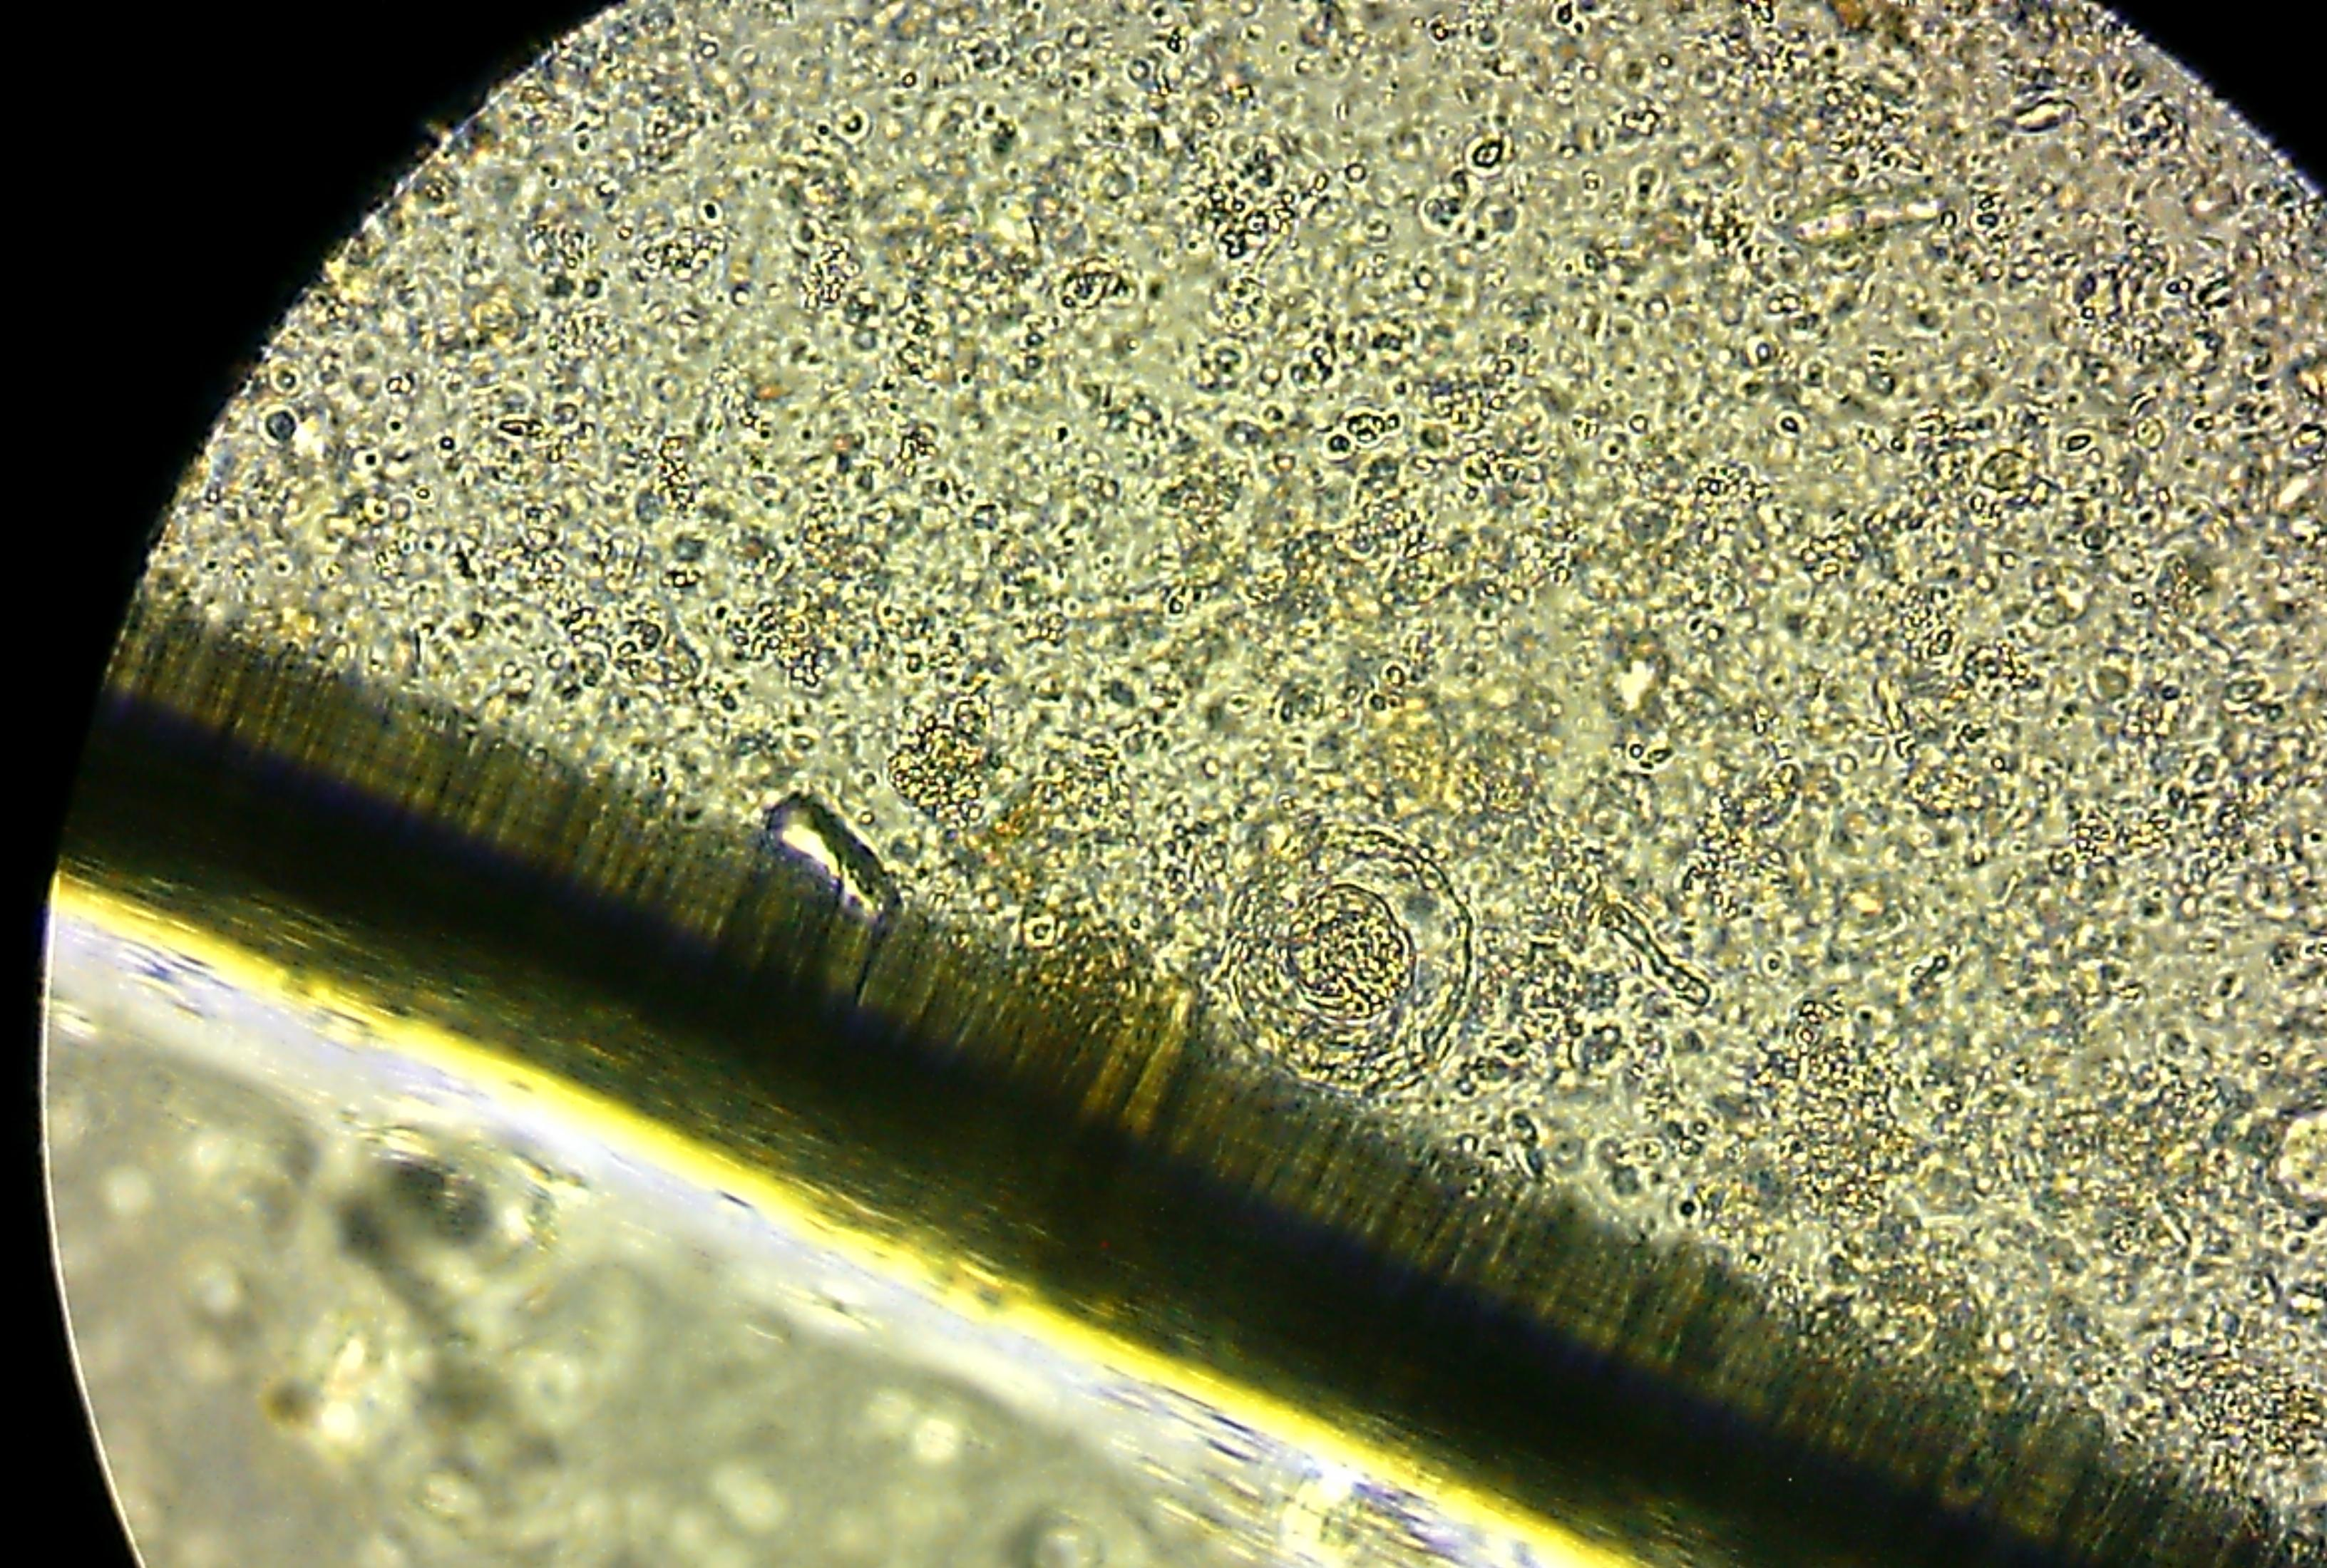Hymenolepis nana: (1204, 807, 1480, 1109)
